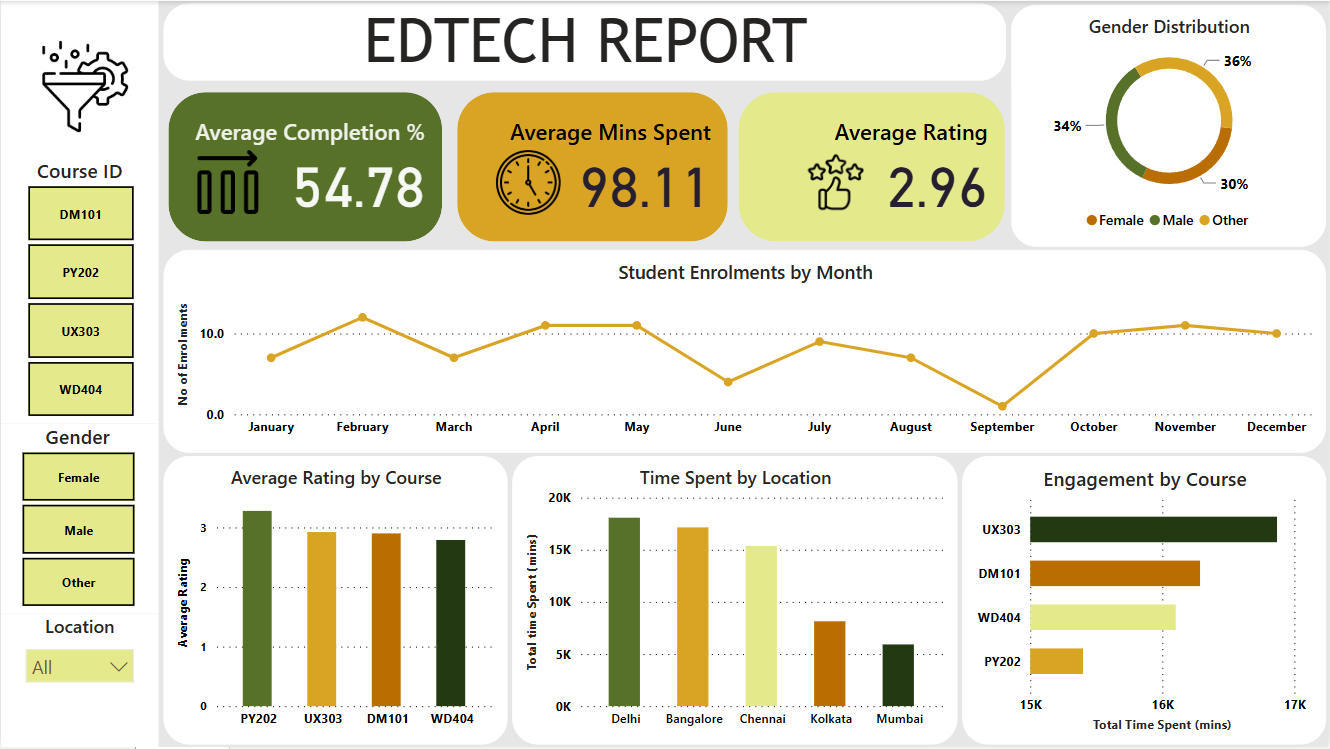

Layout of this report page (visuals, bound fields, positions):
{"tool":"powerbi","page":{"name":"Page 1","canvas":[1280,720],"ordinal":0},"visuals":[{"type":"cardVisual","fields":{"Data":["Avg(course_activity.Completion_Percentage)"]},"box":[156.8,83.2,275,154],"z":0},{"type":"columnChart","title":"Time Spent by Location","fields":{"Y":["Sum(course_activity.Time_Spent_Minutes)"],"Series":["students.Location"],"Category":["students.Location"]},"box":[493.3,439,429.3,278.6],"z":1000},{"type":"lineChart","title":"Student Enrolments by Month","fields":{"Y":["CountNonNull(students.Student_ID)"],"Category":["students.Enrolment_Date.Variation.Date Hierarchy.Month"]},"box":[156.8,240,1121.6,196],"z":2000},{"type":"donutChart","title":"Gender Distribution","fields":{"Y":["CountNonNull(students.Gender)"],"Category":["students.Gender"]},"box":[974.5,3.6,303.9,234],"z":3000},{"type":"barChart","title":"Engagement by Course","fields":{"Category":["course_activity.Course_ID"],"Y":["Sum(course_activity.Time_Spent_Minutes)"],"Series":["course_activity.Course_ID"]},"box":[927.4,439,351,278.6],"z":4000},{"type":"slicer","title":"Course ID","fields":{"Values":["course_activity.Course_ID"]},"box":[0,150.8,152,256.9],"z":5000},{"type":"slicer","title":"Location","fields":{"Values":["students.Location"]},"box":[0,591,152,129],"z":6000},{"type":"columnChart","title":"Average Rating by Course","fields":{"Category":["feedback.Course_ID"],"Y":["Avg(feedback.Rating)"]},"box":[156.8,439,331.7,278.6],"z":7000},{"type":"textbox","box":[156.8,2.4,813,74.8],"z":8000},{"type":"slicer","title":"Gender","fields":{"Values":["students.Gender"]},"box":[0,407.6,152,183.3],"z":10000},{"type":"cardVisual","fields":{"Data":["Avg(course_activity.Time_Spent_Minutes)"]},"box":[435.4,83.2,271.4,154.4],"z":11000},{"type":"cardVisual","fields":{"Data":["Avg(feedback.Rating)"]},"box":[706.7,83.2,267.7,154.4],"z":12000},{"type":"shape","box":[0,0,152,152],"z":12001},{"type":"image","box":[32.6,33.8,97.7,97.7],"z":12002},{"type":"image","box":[165.2,120.6,107.3,107.3],"z":12003},{"type":"image","box":[472.8,135.1,72.4,79.6],"z":12004},{"type":"image","box":[770.7,139.9,69.9,69.9],"z":12005}]}

Visuals, with their boxes in screenshot pixels (x1, y1, x2, y2), scaled from the page's 1280x720 canvas onto the 1330x749 screenshot:
cardVisual - Avg(course_activity.Completion_Percentage): select_region(163, 87, 449, 247)
"Time Spent by Location" columnChart: select_region(513, 457, 959, 747)
"Student Enrolments by Month" lineChart: select_region(163, 250, 1328, 454)
"Gender Distribution" donutChart: select_region(1013, 4, 1328, 247)
"Engagement by Course" barChart: select_region(964, 457, 1328, 747)
"Course ID" slicer: select_region(0, 157, 158, 424)
"Location" slicer: select_region(0, 615, 158, 748)
"Average Rating by Course" columnChart: select_region(163, 457, 508, 747)
textbox: select_region(163, 2, 1008, 80)
"Gender" slicer: select_region(0, 424, 158, 615)
cardVisual - Avg(course_activity.Time_Spent_Minutes): select_region(452, 87, 734, 247)
cardVisual - Avg(feedback.Rating): select_region(734, 87, 1012, 247)
shape: select_region(0, 0, 158, 158)
image: select_region(34, 35, 135, 137)
image: select_region(172, 125, 283, 237)
image: select_region(491, 141, 566, 223)
image: select_region(801, 146, 873, 218)
